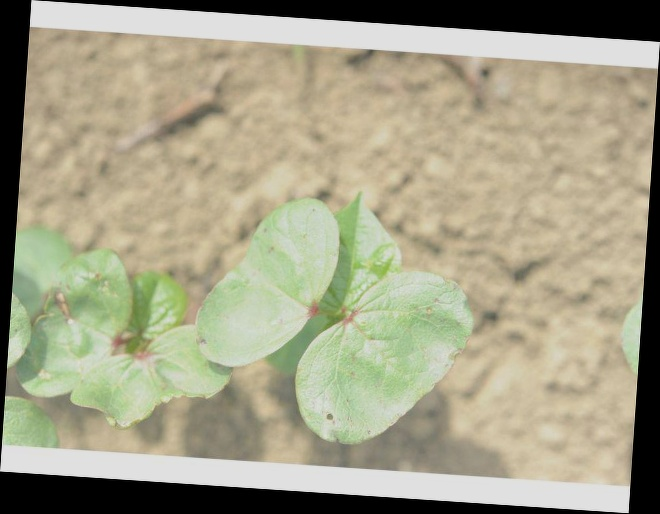cotton: (198, 188, 474, 443), (10, 233, 234, 428)
